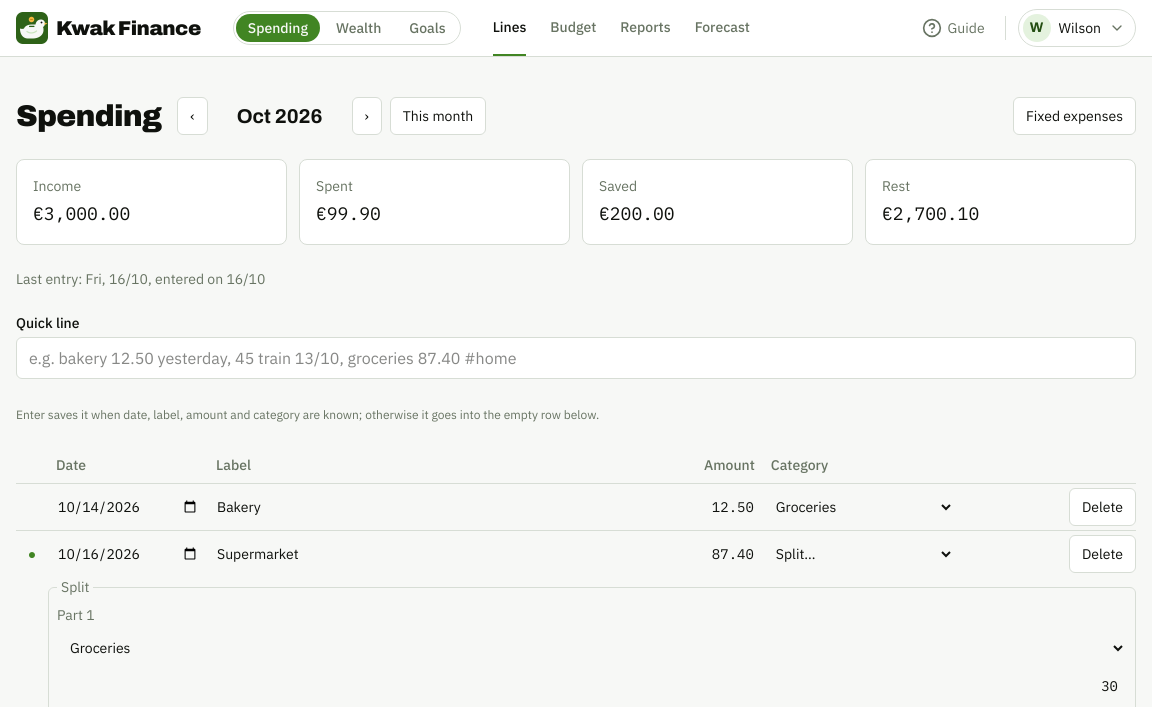
Scenario: the demo opens from the account menu, next to the activity log
Click the button with aria-label "Account menu: Wilson": (1077, 28) [1018,9,1136,47]
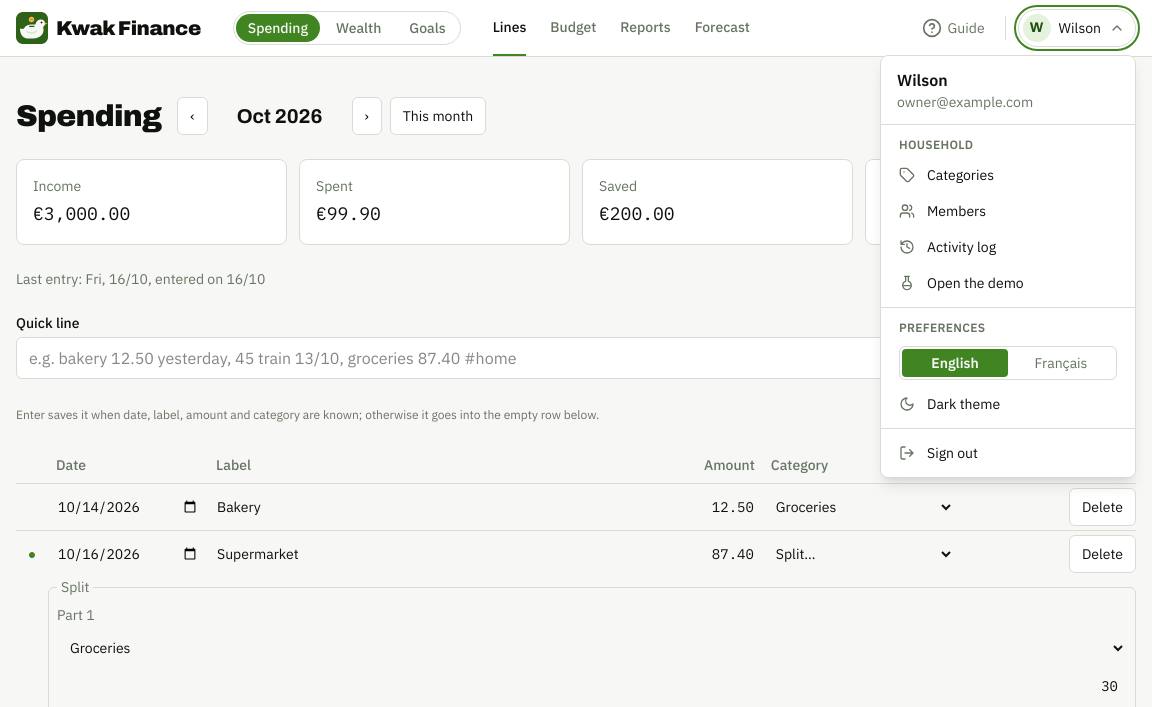
Click the button "Open the demo": (1008, 283) [887,265,1129,301]
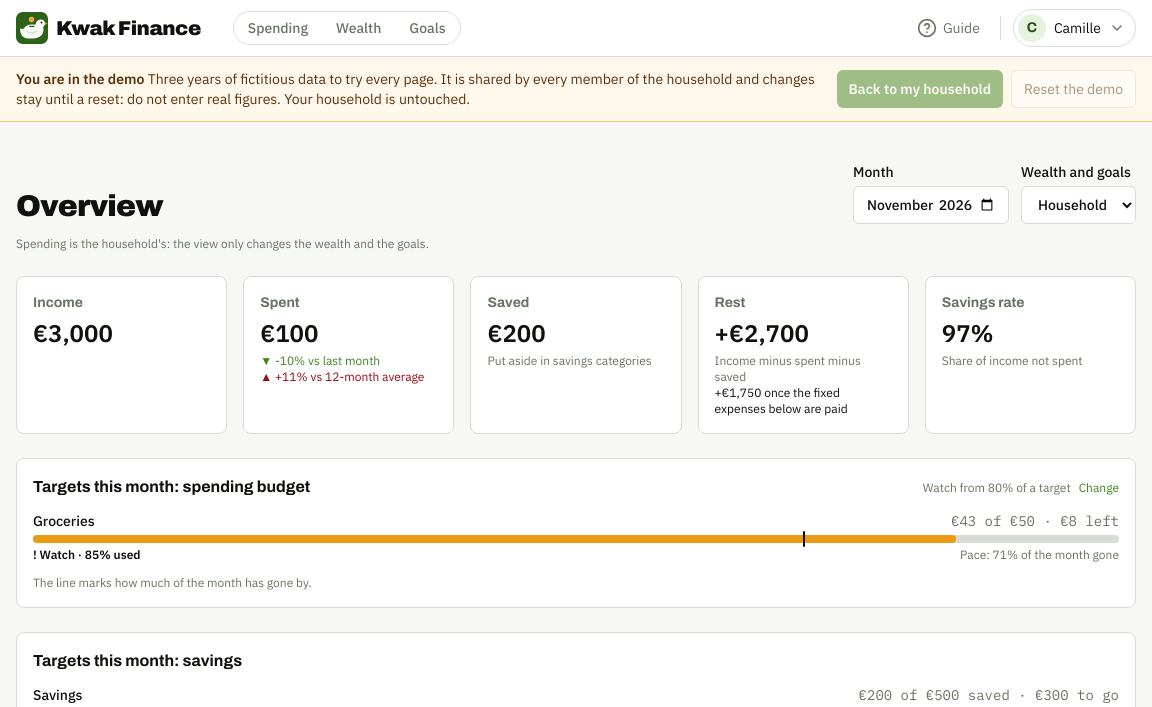
expect the element "You are in the demo" shows "shared by every member": met, box [16,70,815,108]
expect the button with aria-label "Account menu: Camille" is shown: met, box [1013,9,1136,47]
